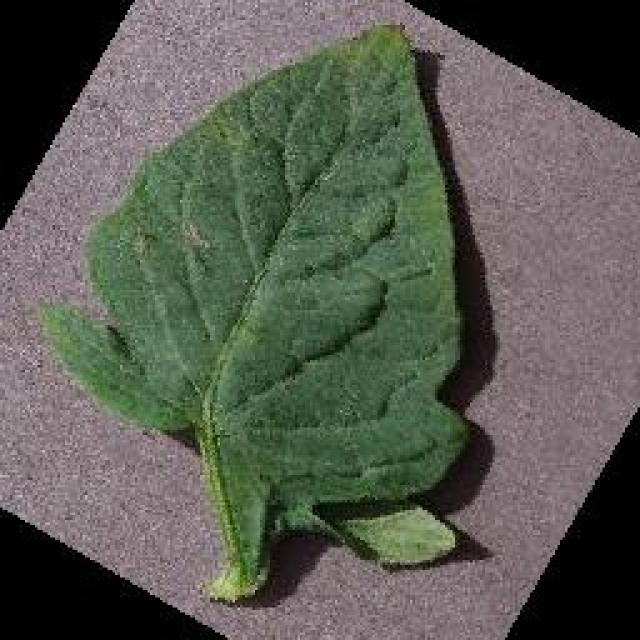Tomato___Target_Spot: (42, 25, 465, 600)
